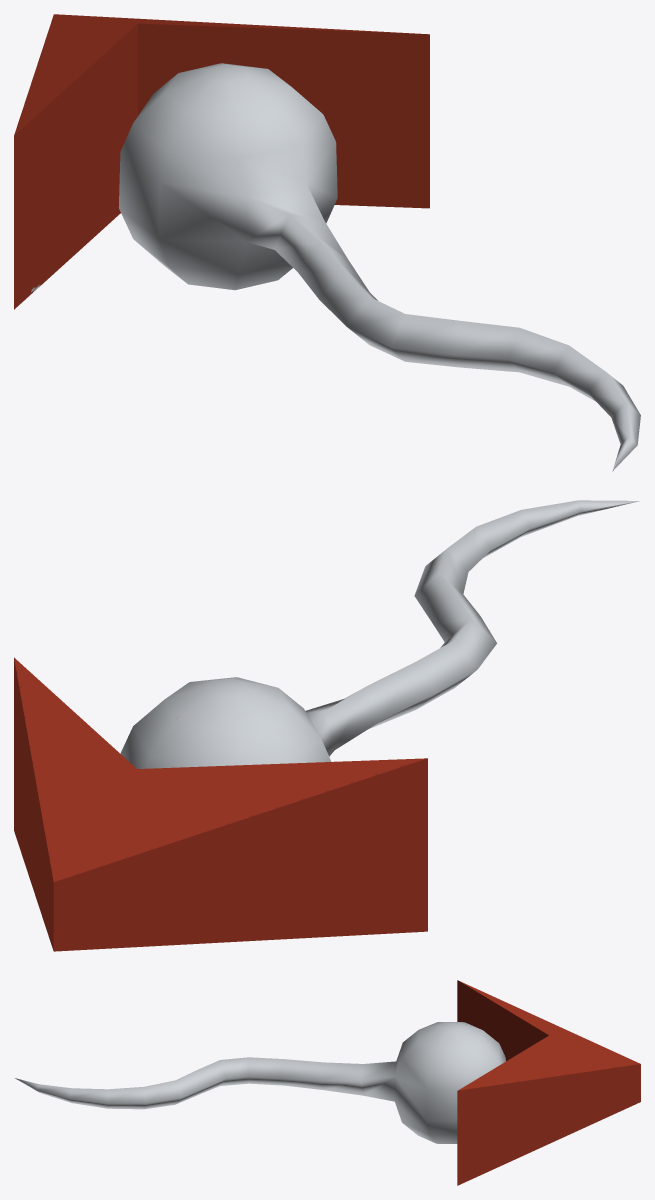
Rendered from Game.fbx.
The picture shows the model from 3 angles, top to bottom: view 1: azimuth 30°, elevation 25°; view 2: azimuth 150°, elevation 25°; view 3: azimuth 270°, elevation 25°; orthographic projection. The views are drawn at different scales.
Parts seen in each view (by area): view 1: Cube; view 2: Cube; view 3: Cube.
Boxes of the visible parts, left/top/right/bottom form: Cube: left=14, top=14, right=640, bottom=471; Cube: left=14, top=500, right=639, bottom=951; Cube: left=15, top=980, right=640, bottom=1185.
Size of the model in its own units: 260 by 125 by 622.
